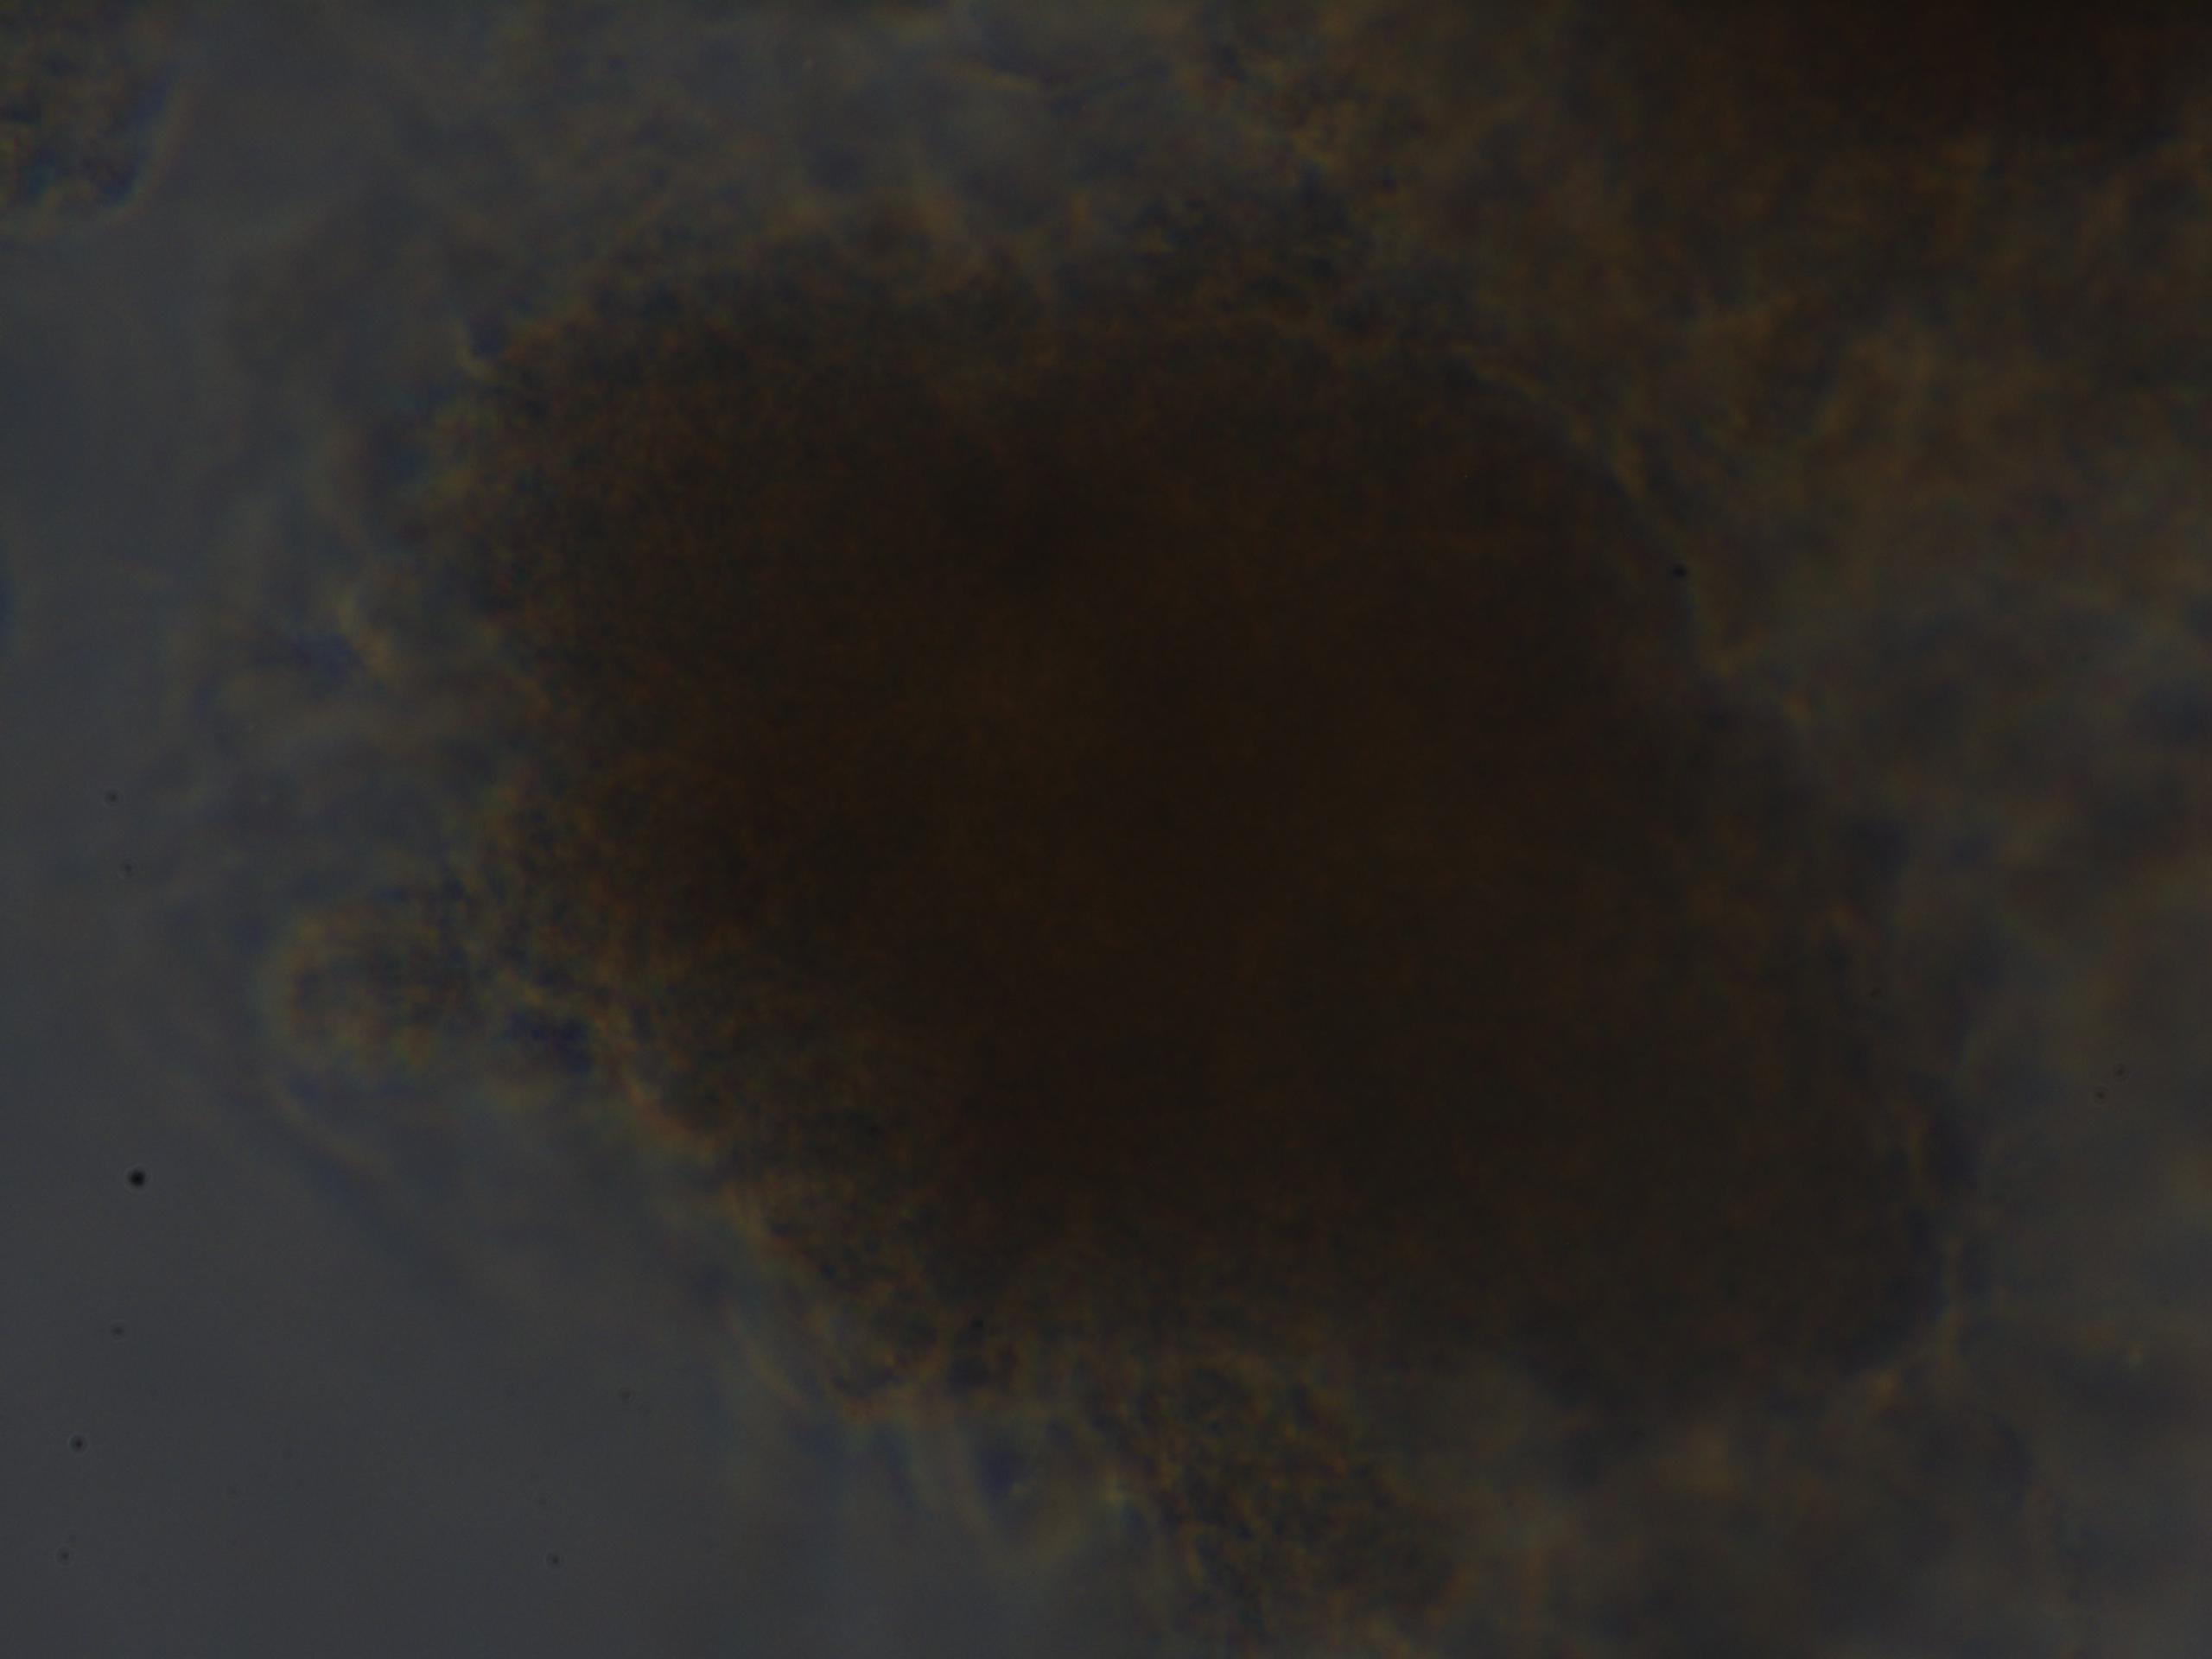spherical_floc: (434, 249, 1975, 1486)
